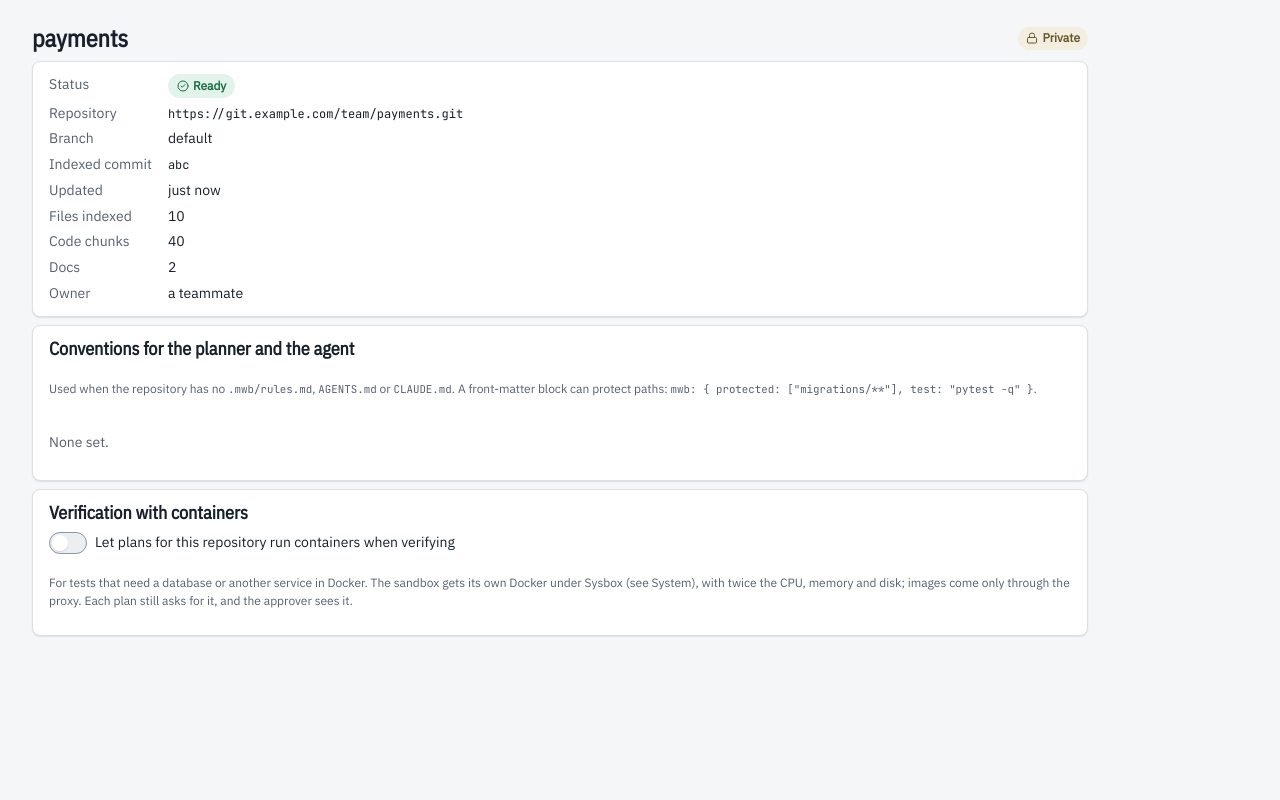
Test: Verification with containers (08 §F10) › lets an admin allow it for a repository
The image size is (1280, 800).
Click the switch named "Let plans for this repository run containers when verifying" at (68,543), box [49, 532, 87, 554]
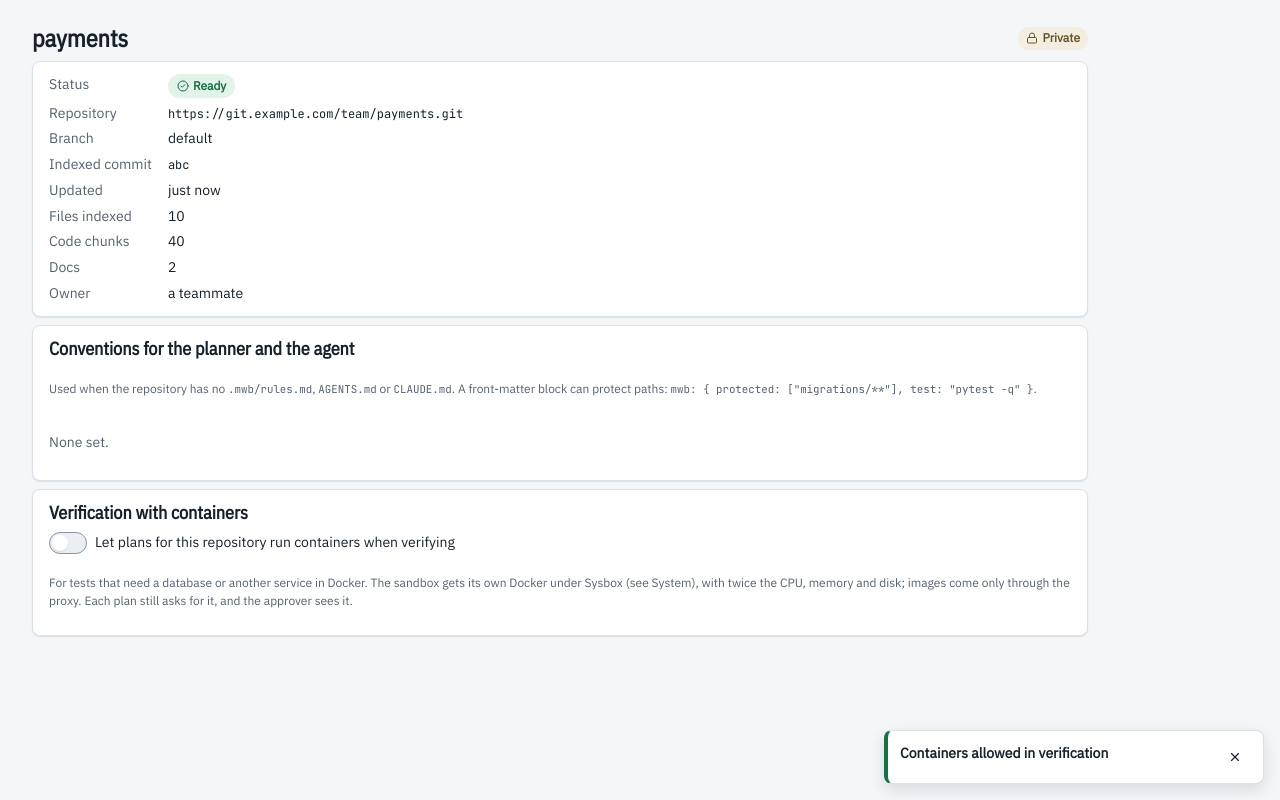
Now the text "Containers allowed in verification" is shown, box [900, 744, 1108, 762]
